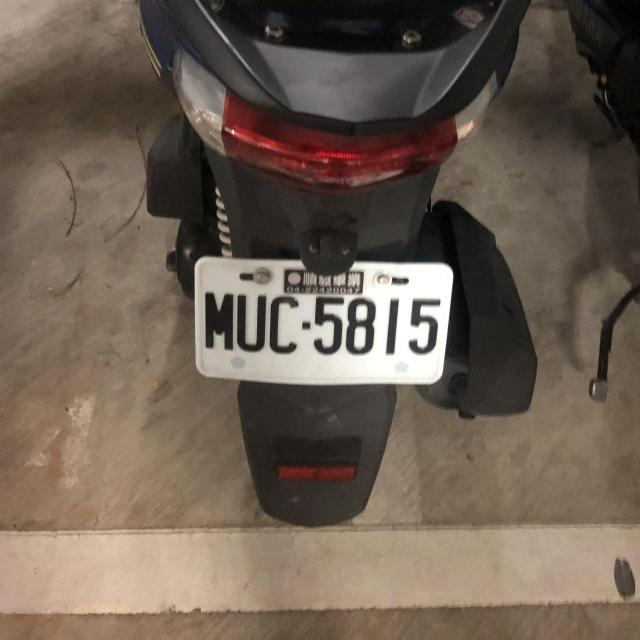W: (187, 249, 455, 387)
